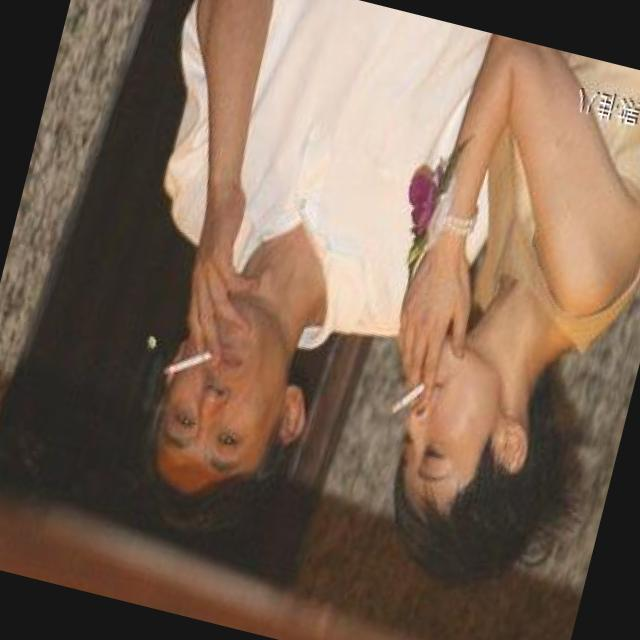cigarette: (165, 329, 218, 388), (388, 365, 438, 425)
